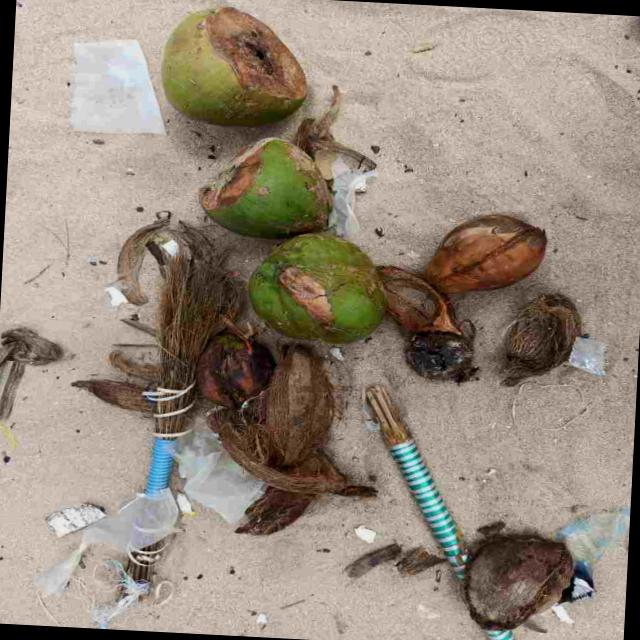rac_huu_co: (200, 91, 547, 382), (112, 216, 375, 536), (366, 386, 574, 640), (163, 7, 306, 123), (250, 233, 384, 343), (500, 295, 582, 386)
